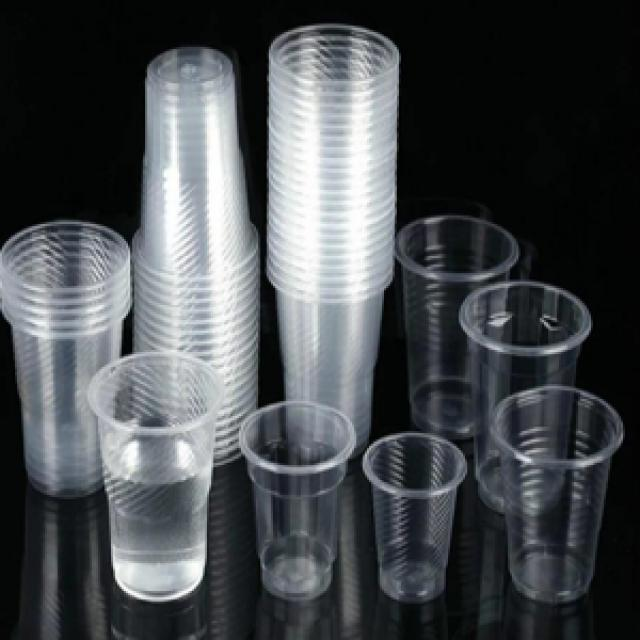plastic cup: (130, 41, 265, 472), (264, 24, 397, 458), (2, 218, 139, 501), (86, 348, 230, 608), (459, 277, 595, 514), (488, 382, 623, 606), (395, 213, 527, 438), (234, 395, 360, 606), (356, 431, 467, 606)
